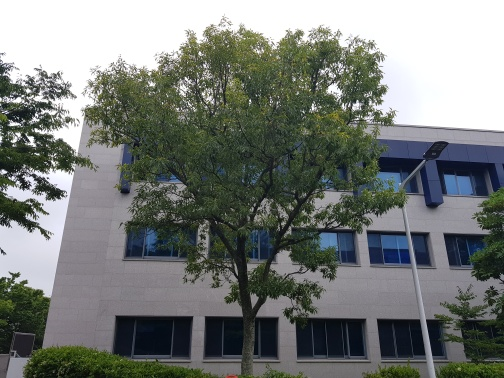College of Social Sciences: (53, 83, 496, 369)
